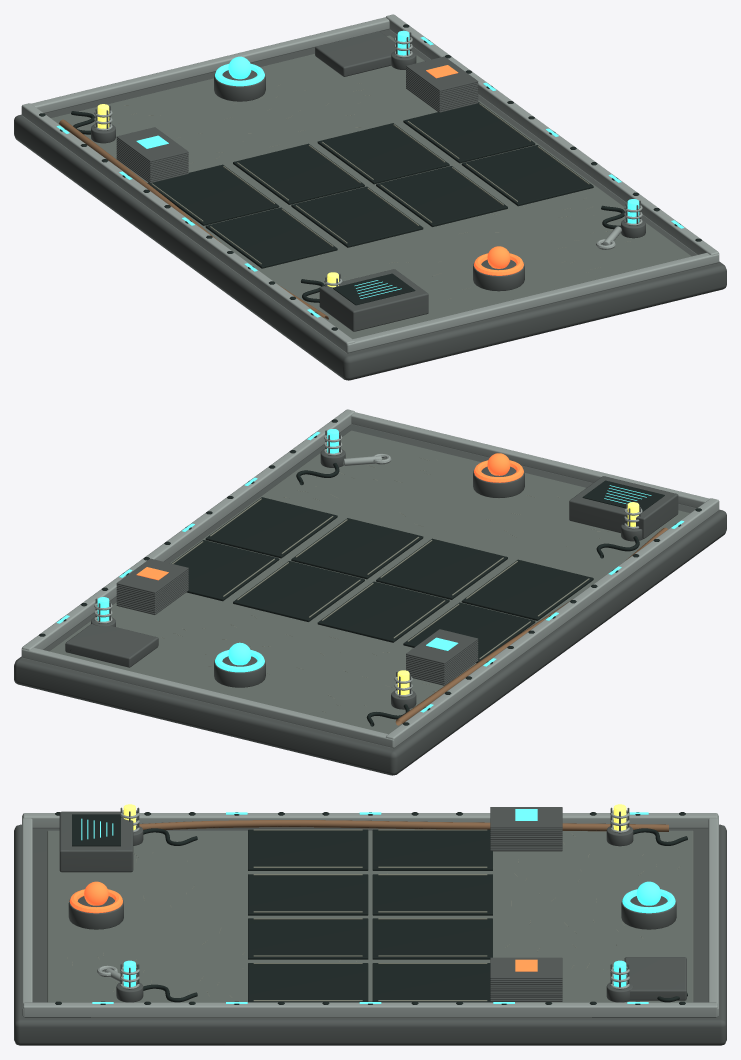
Rendered from spark_table.glb.
3 renders of one model, top to bottom at view 1: azimuth 30°, elevation 25°; view 2: azimuth 150°, elevation 25°; view 3: azimuth 270°, elevation 25°, orthographic. The views are drawn at different scales.
Visible parts, largest first — view 1: spark_table; view 2: spark_table; view 3: spark_table.
Boxes of the visible parts, x1=… form: spark_table: x1=14, y1=14, x2=726, y2=380; spark_table: x1=14, y1=409, x2=726, y2=775; spark_table: x1=14, y1=804, x2=726, y2=1045.
Size of the model in its own units: 10.6 by 1.62 by 16.
